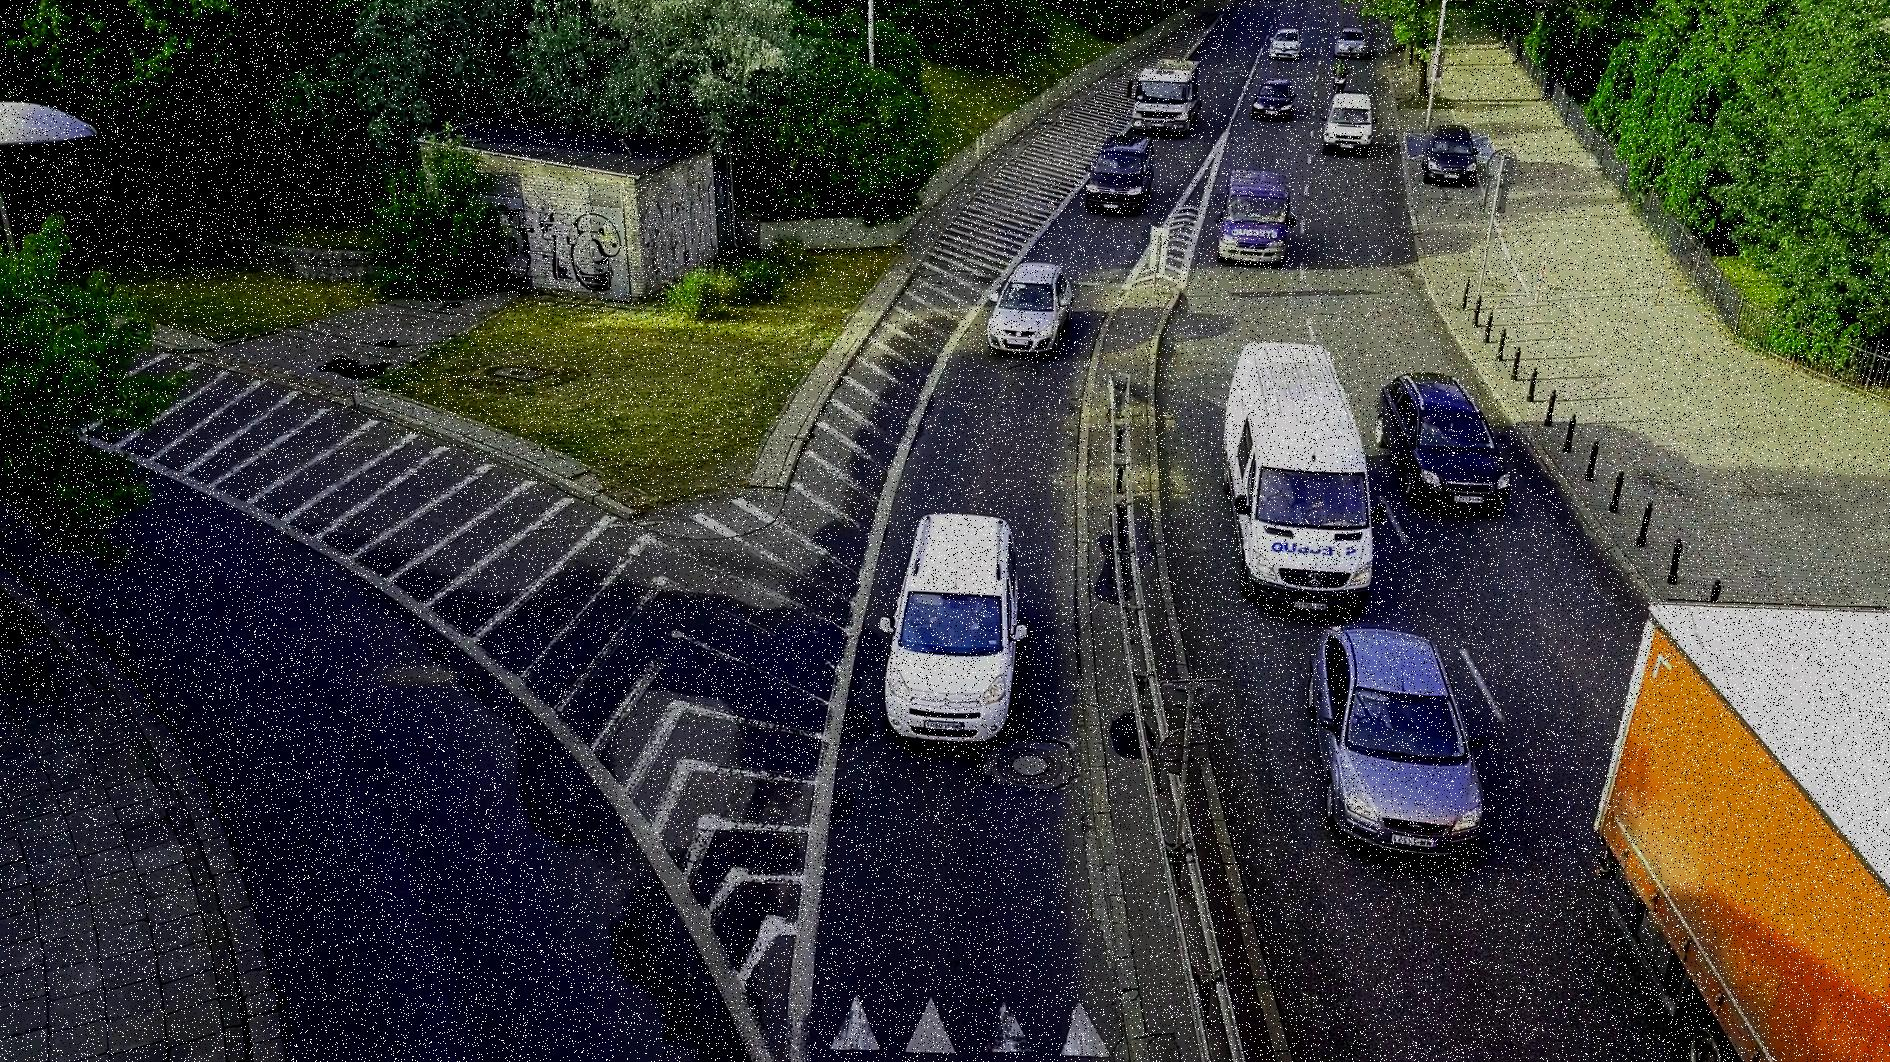car: (1223, 325, 1381, 605), (1307, 629, 1496, 845), (890, 512, 1021, 745), (1381, 369, 1514, 514), (1212, 156, 1301, 260), (984, 249, 1068, 353), (1077, 131, 1157, 219), (1423, 123, 1483, 190), (1321, 88, 1377, 156), (1268, 23, 1308, 64), (1251, 79, 1297, 114), (1331, 31, 1371, 53)
truck: (1626, 582, 1890, 1062), (1129, 51, 1203, 142)
